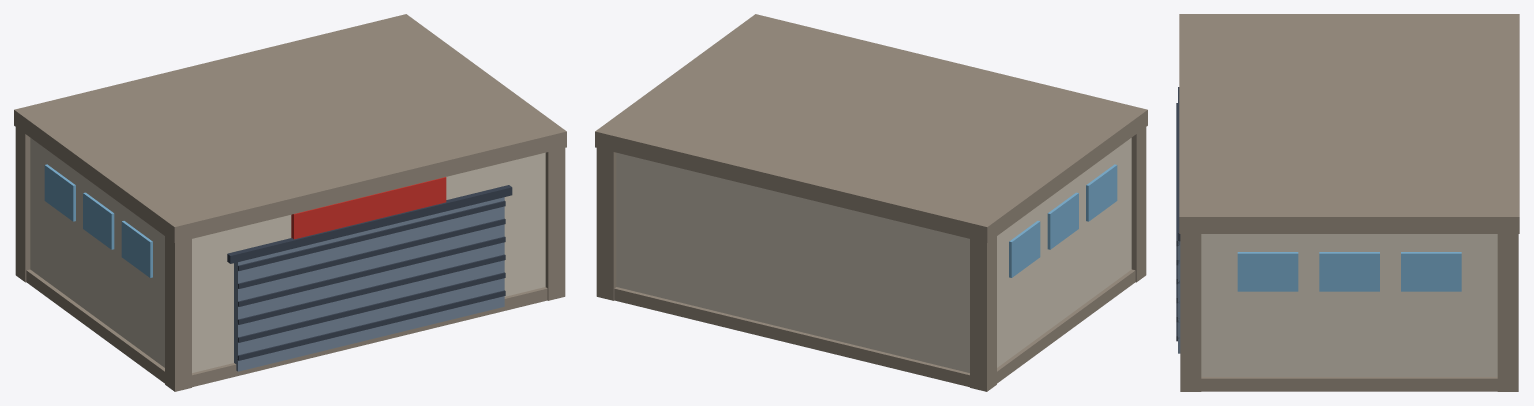
The model's file is pitsGarageClosed.glb.
The picture shows the model from 3 angles, left to right: view 1: azimuth 30°, elevation 25°; view 2: azimuth 150°, elevation 25°; view 3: azimuth 270°, elevation 25°; orthographic projection. The views are drawn at different scales.
Visible parts, largest first — view 1: pitsGarageClosed_concreteDark, pitsGarageClosed_concrete, pitsGarageClosed_steel, pitsGarageClosed_steelDark, pitsGarageClosed_red, pitsGarageClosed_glass; view 2: pitsGarageClosed_concreteDark, pitsGarageClosed_concrete, pitsGarageClosed_glass; view 3: pitsGarageClosed_concreteDark, pitsGarageClosed_concrete, pitsGarageClosed_glass, pitsGarageClosed_steelDark, pitsGarageClosed_steel.
Boxes of the visible parts, x1,y1,x2,y2 form: pitsGarageClosed_concreteDark: [14, 14, 566, 391]; pitsGarageClosed_concrete: [30, 138, 545, 372]; pitsGarageClosed_steel: [234, 197, 504, 371]; pitsGarageClosed_steelDark: [227, 185, 512, 360]; pitsGarageClosed_red: [291, 177, 446, 239]; pitsGarageClosed_glass: [44, 164, 152, 277]; pitsGarageClosed_concreteDark: [595, 14, 1147, 391]; pitsGarageClosed_concrete: [616, 138, 1131, 372]; pitsGarageClosed_glass: [1009, 164, 1117, 277]; pitsGarageClosed_concreteDark: [1179, 14, 1519, 391]; pitsGarageClosed_concrete: [1201, 234, 1497, 376]; pitsGarageClosed_glass: [1237, 252, 1461, 291]; pitsGarageClosed_steelDark: [1176, 87, 1180, 341]; pitsGarageClosed_steel: [1178, 241, 1180, 353].
Bounding box in the file's own units: 20.6 × 8.3 × 14.74.
